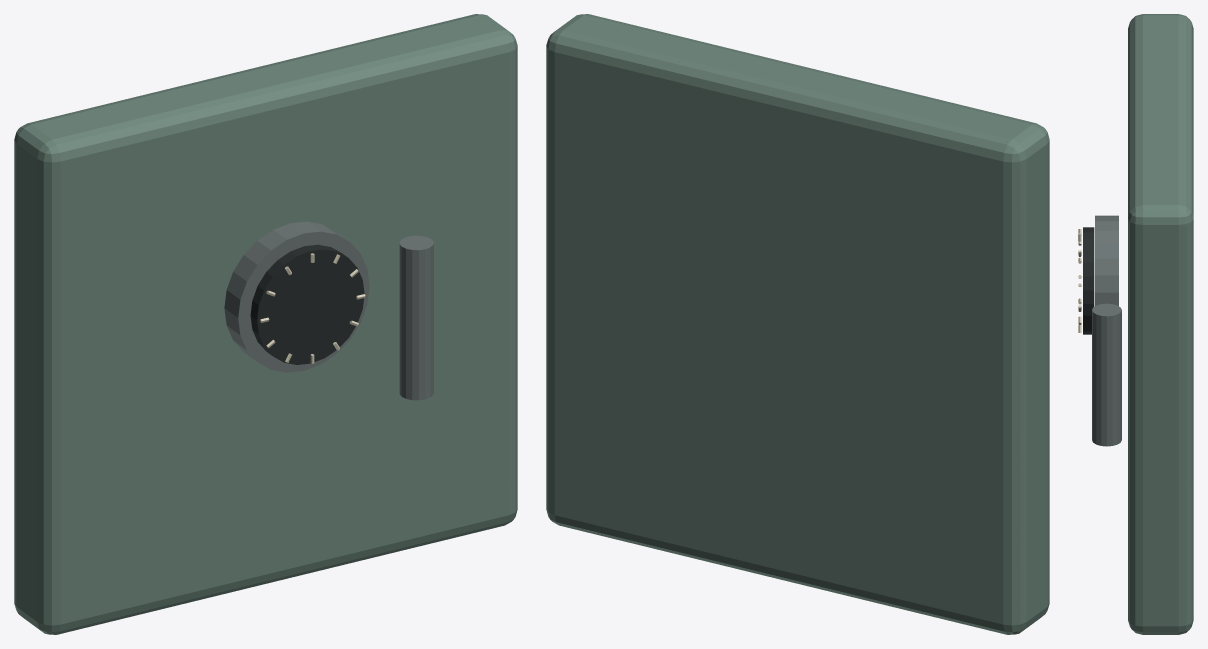
File: safe_door.glb
3 views of the same model, side by side, from view 1: azimuth 30°, elevation 25°; view 2: azimuth 150°, elevation 25°; view 3: azimuth 270°, elevation 25° (orthographic). The views are drawn at different scales.
Visible parts, largest first — view 1: safe_door; view 2: safe_door; view 3: safe_door.
Boxes of the visible parts, bbox=[...] form: safe_door: bbox=[14, 14, 517, 634]; safe_door: bbox=[546, 14, 1049, 634]; safe_door: bbox=[1078, 14, 1193, 634].
Bounding box in the file's own units: 0.8 × 0.79 × 0.193.
